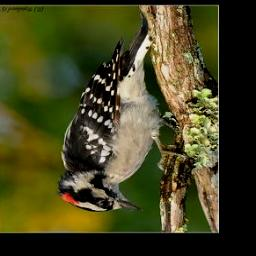Woodpecker: (54, 13, 183, 212)
